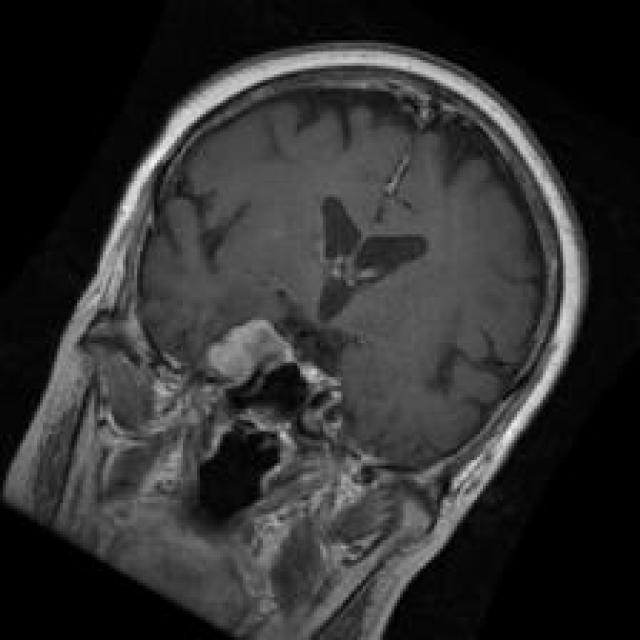meningioma_tumor: (193, 310, 318, 405)
